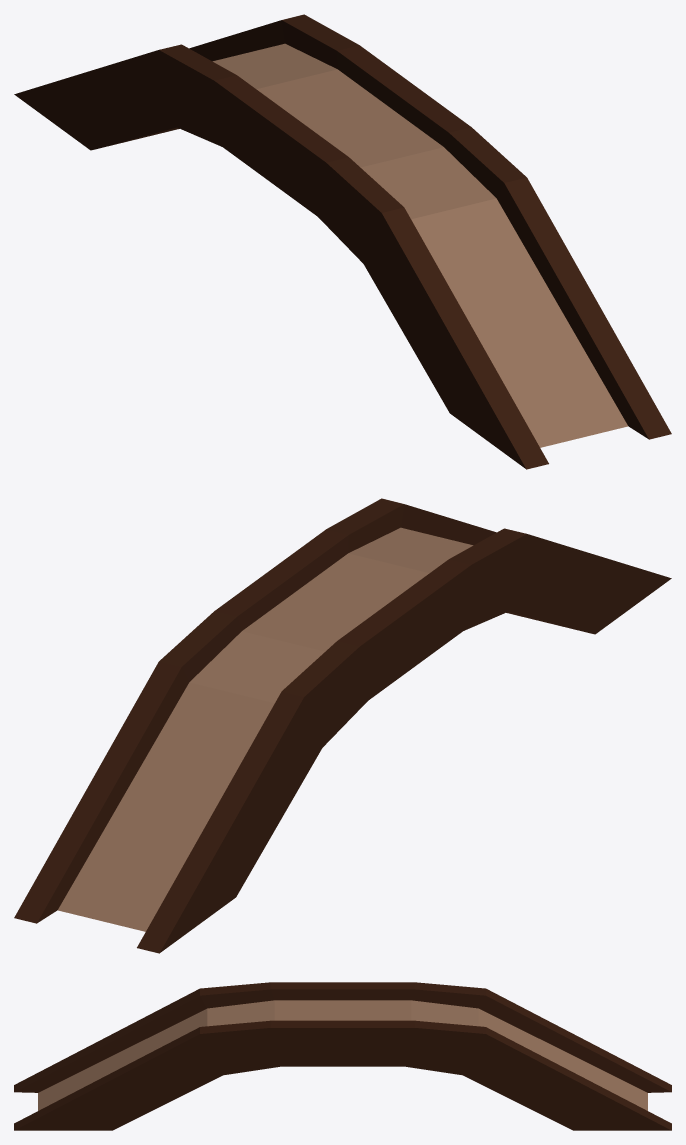
File: bridge.glb
The picture shows the model from 3 angles, top to bottom: view 1: azimuth 30°, elevation 25°; view 2: azimuth 150°, elevation 25°; view 3: azimuth 270°, elevation 25°; orthographic projection. The views are drawn at different scales.
Parts seen in each view (by area): view 1: Cube.002; view 2: Cube.002; view 3: Cube.002.
Boxes of the visible parts, left/top/right/bottom form: Cube.002: left=14, top=14, right=671, bottom=469; Cube.002: left=14, top=498, right=671, bottom=953; Cube.002: left=14, top=982, right=671, bottom=1130.
Size of what is drawn, in the model's own units: 0.0948 by 0.0998 by 0.5788.
